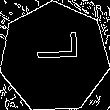L_W: (29, 41, 80, 74)
